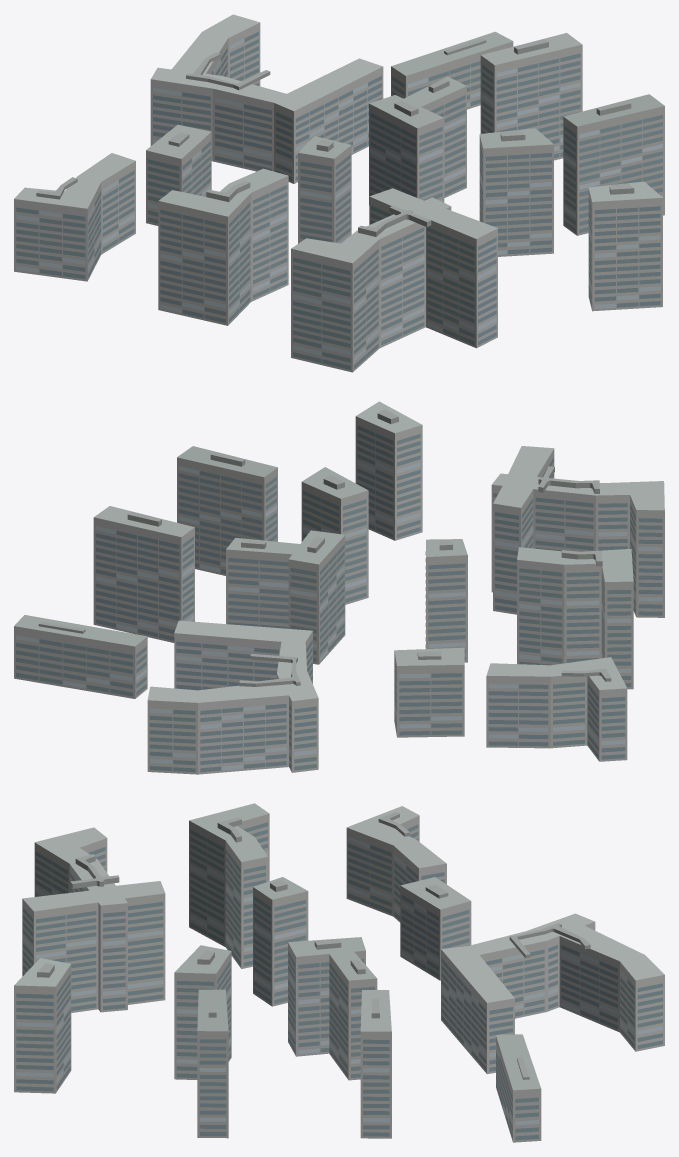
The model's file is apt-a41279927.glb.
The picture shows the model from 3 angles, top to bottom: view 1: azimuth 30°, elevation 25°; view 2: azimuth 150°, elevation 25°; view 3: azimuth 270°, elevation 25°; orthographic projection. The views are drawn at different scales.
Parts seen in each view (by area): view 1: apt-a41279927; view 2: apt-a41279927; view 3: apt-a41279927.
Part boxes in pixels (x1,y1,x2,y2): apt-a41279927: (14,14,664,372); apt-a41279927: (14,401,664,774); apt-a41279927: (14,803,664,1142).
Bounding box in the file's own units: 229 × 45 × 237.
